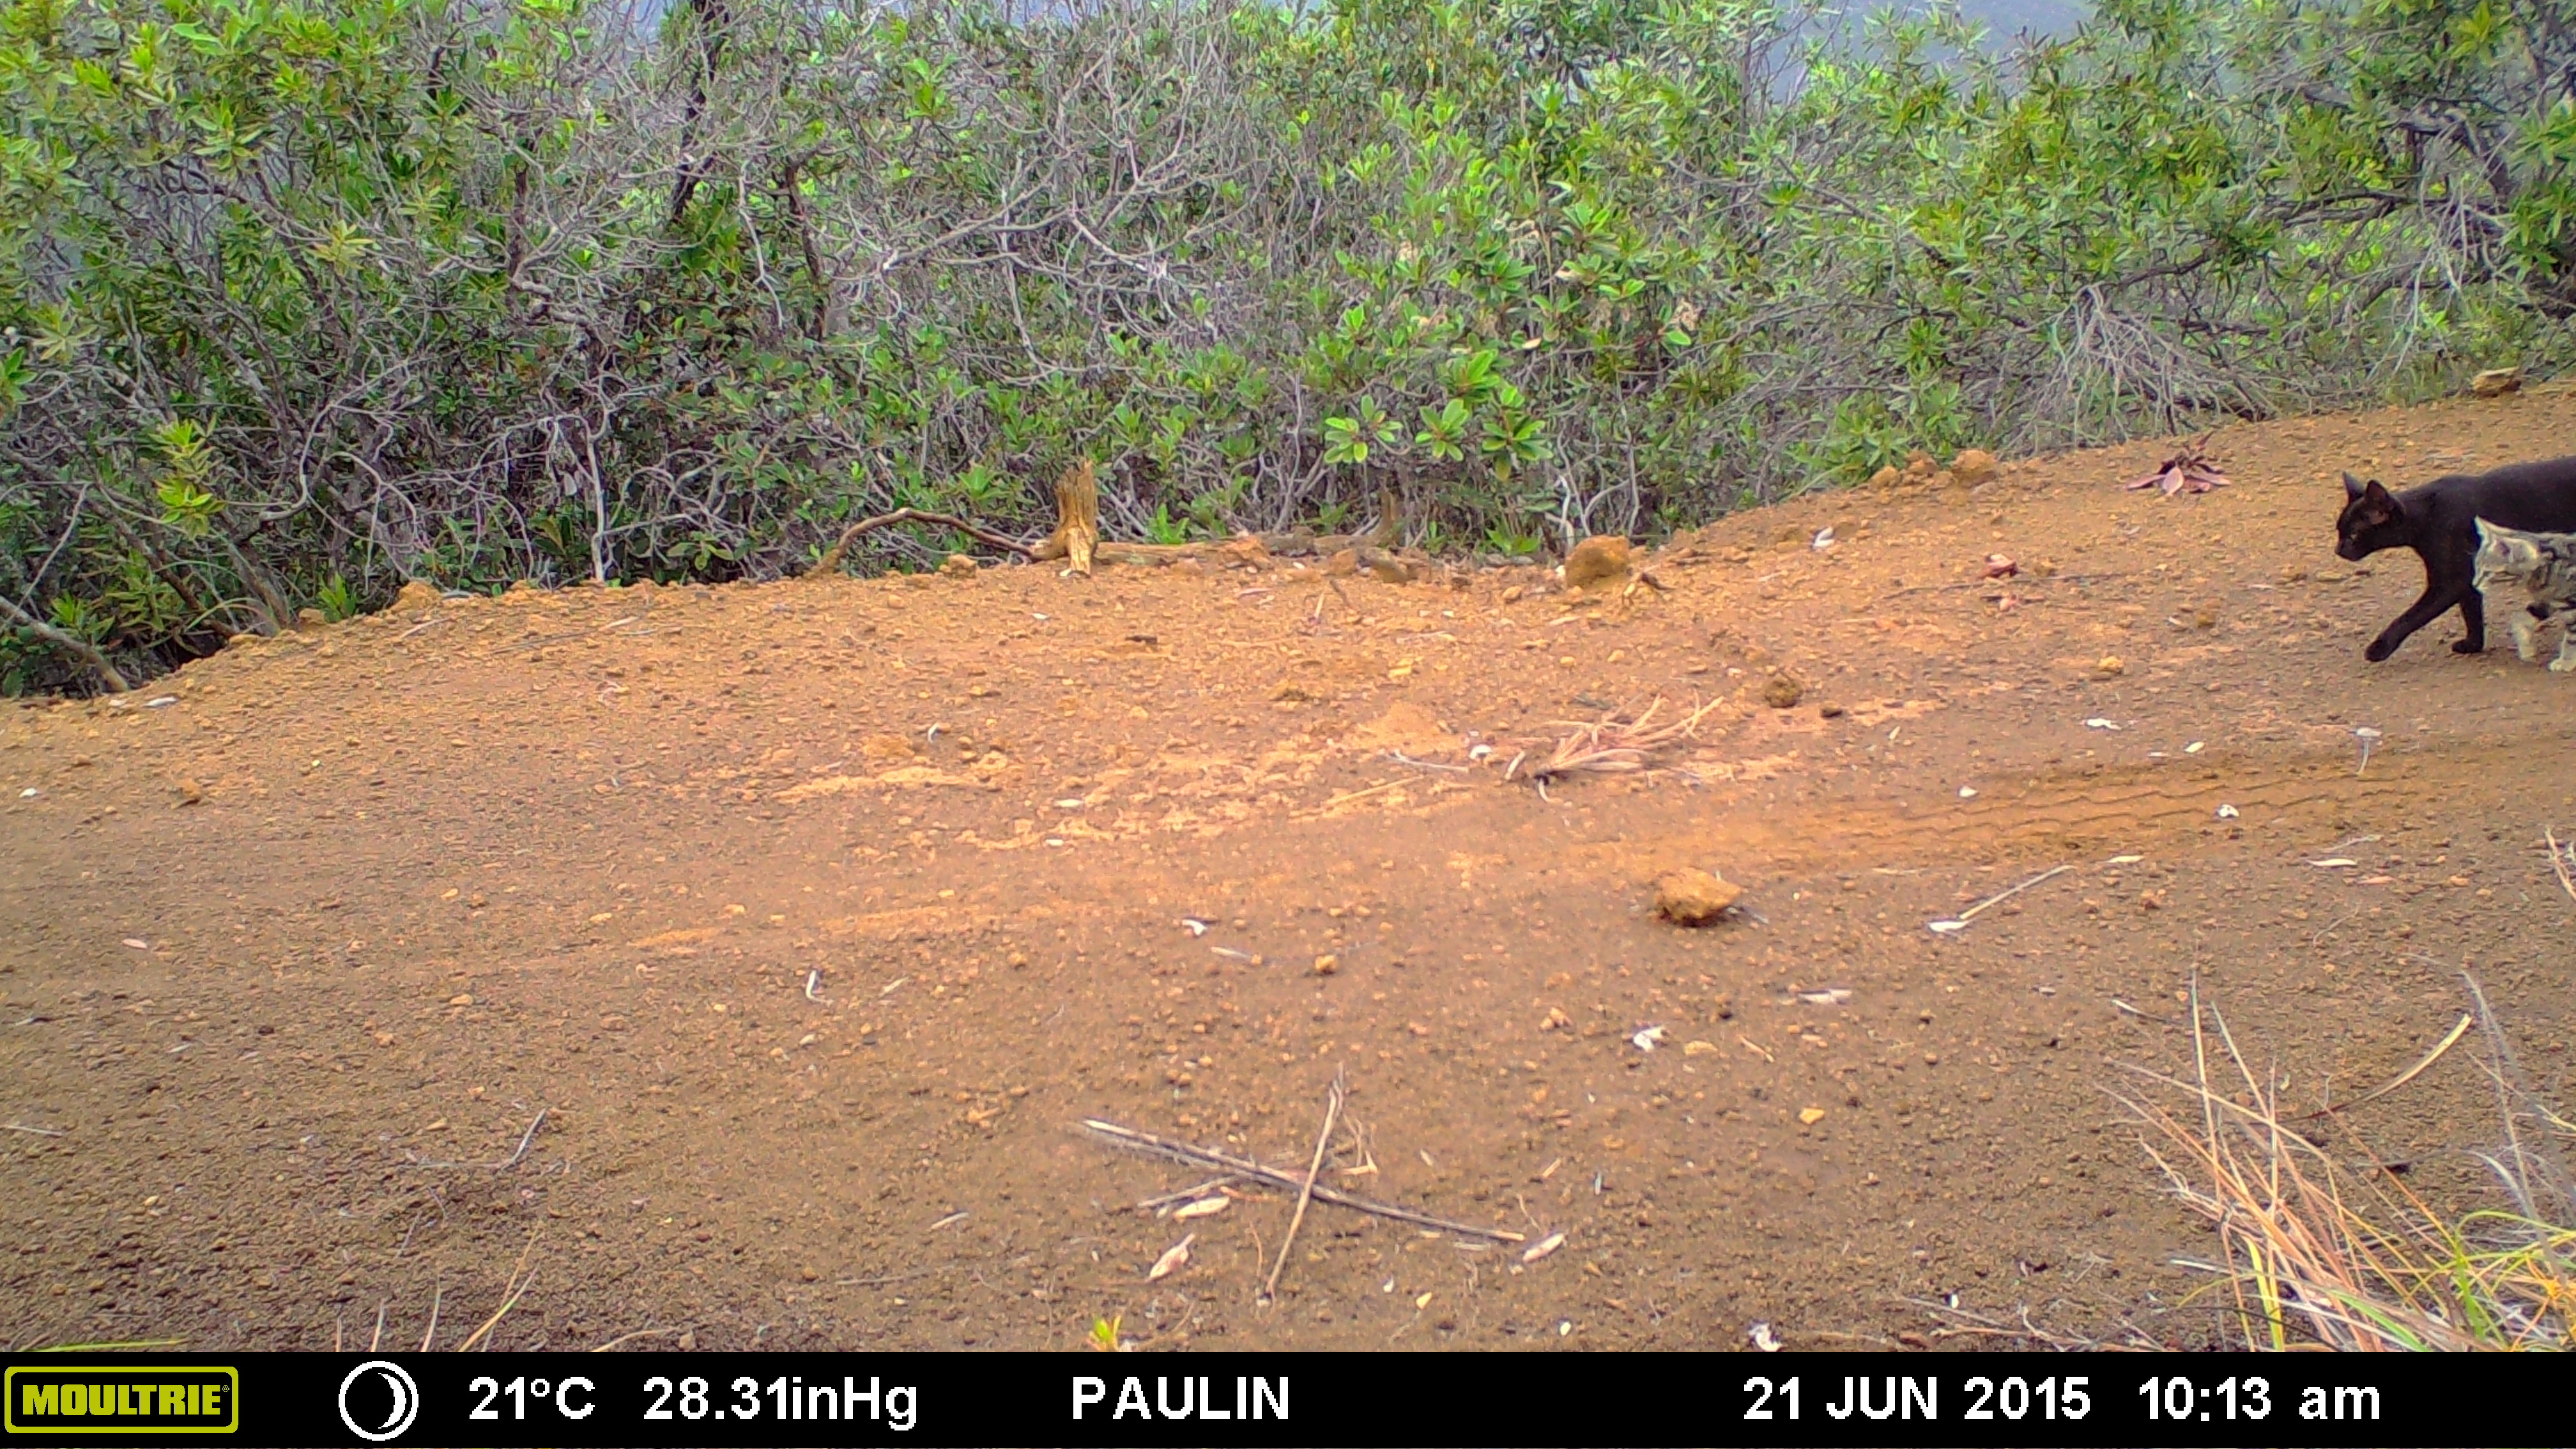cat: (2327, 453, 2574, 669), (2468, 508, 2574, 679)
